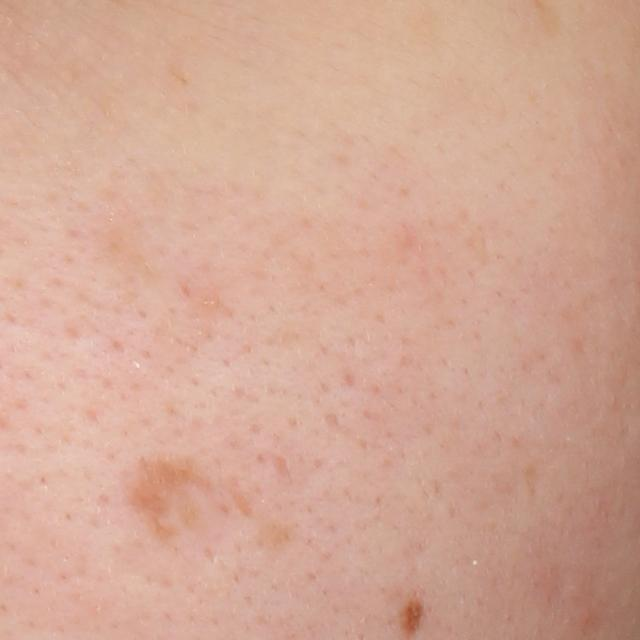atrophic_scar: (127, 447, 216, 548), (272, 449, 295, 483)
nevus: (400, 590, 430, 639)
